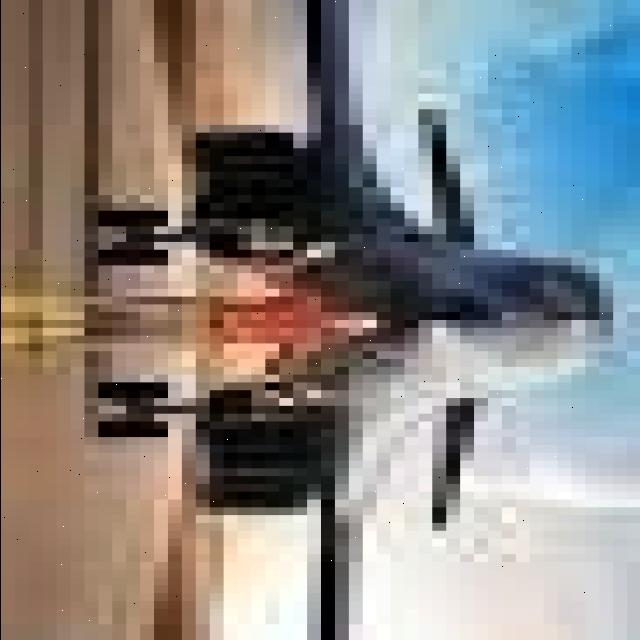B1: (71, 6, 627, 640)
